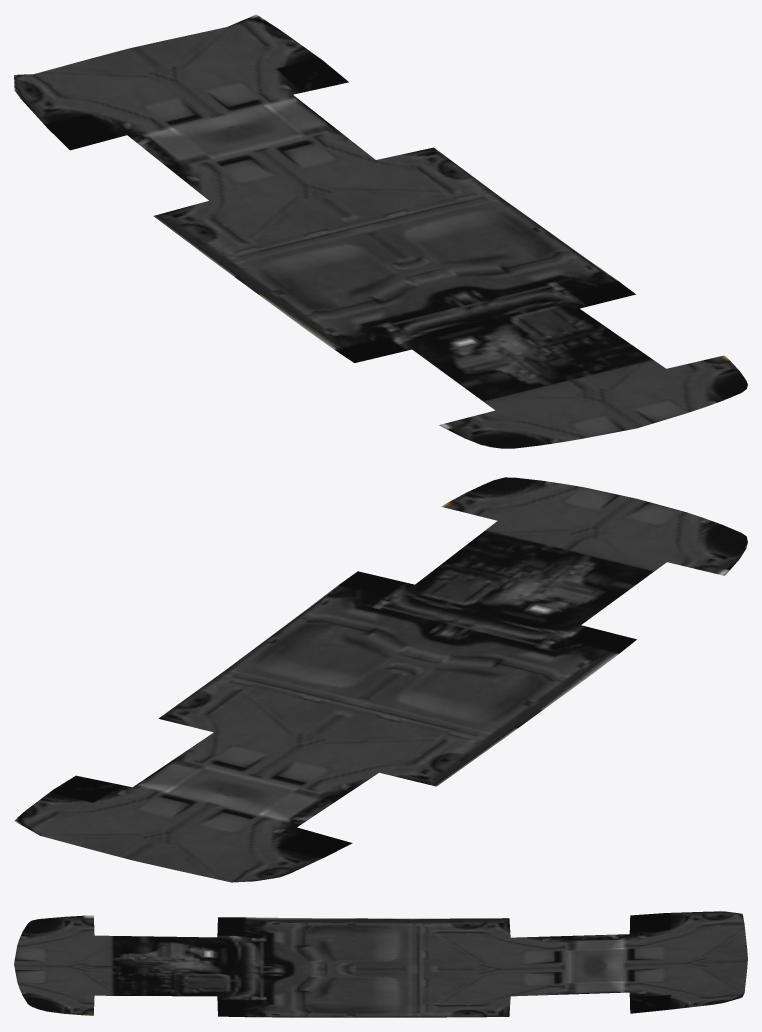
Rendered from 6Alt.fbx.
3 renders of one model, top to bottom at view 1: azimuth 30°, elevation 25°; view 2: azimuth 150°, elevation 25°; view 3: azimuth 270°, elevation 25°, orthographic. The views are drawn at different scales.
Visible parts, largest first — view 1: Object001; view 2: Object001; view 3: Object001.
Boxes of the visible parts, x1,y1,x2,y2 form: Object001: (14,14,747,448); Object001: (14,477,747,882); Object001: (14,911,747,1017).
Size of the model in its own units: 1676 by 112 by 5168.
